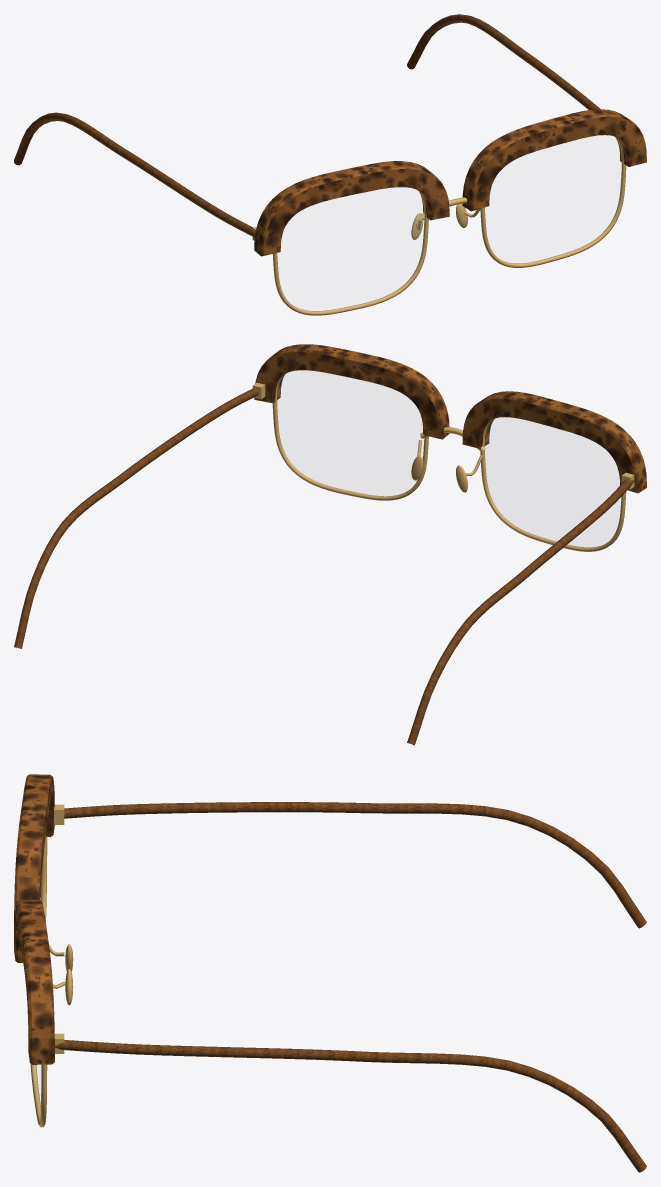
The model's file is BM-P06_Ember_Havana_Gold.glb.
3 views of the same model, one above another, from view 1: azimuth 30°, elevation 25°; view 2: azimuth 150°, elevation 25°; view 3: azimuth 270°, elevation 25° (orthographic). The views are drawn at different scales.
Visible parts, largest first — view 1: Ember_Havana_Gold_Lenses, Ember_Havana_Gold_Acetate, Ember_Havana_Gold_Metal; view 2: Ember_Havana_Gold_Lenses, Ember_Havana_Gold_Acetate, Ember_Havana_Gold_Metal; view 3: Ember_Havana_Gold_Acetate, Ember_Havana_Gold_Metal.
Boxes of the visible parts, x1,y1,x2,y2 form: Ember_Havana_Gold_Lenses: [278, 135, 621, 310]; Ember_Havana_Gold_Acetate: [14, 14, 646, 256]; Ember_Havana_Gold_Metal: [252, 136, 626, 315]; Ember_Havana_Gold_Lenses: [277, 371, 620, 546]; Ember_Havana_Gold_Acetate: [14, 344, 646, 745]; Ember_Havana_Gold_Metal: [252, 373, 634, 551]; Ember_Havana_Gold_Acetate: [14, 774, 646, 1172]; Ember_Havana_Gold_Metal: [30, 804, 73, 1127].
Size of the model in its own units: 0.1441 by 0.0483 by 0.1511.
3 materials, 1 textured.
